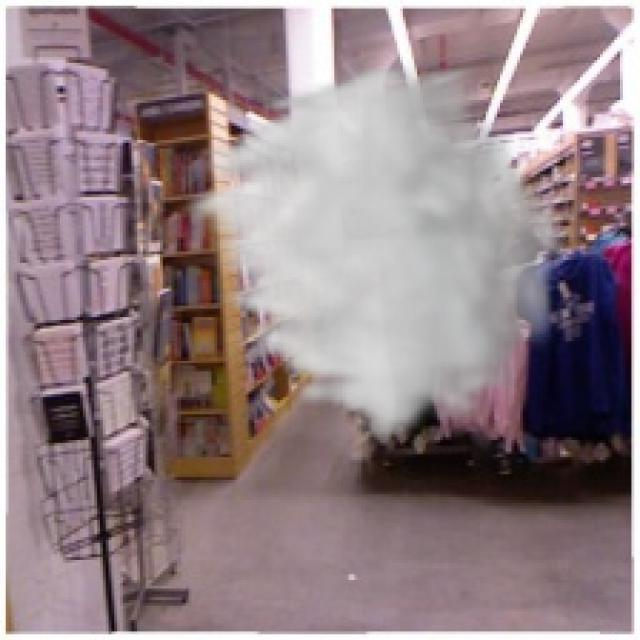Smoke: (168, 60, 568, 446)
